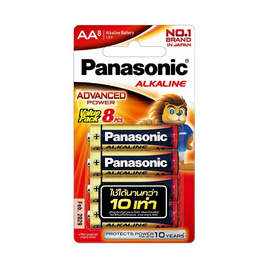Battery: (86, 149, 180, 176), (87, 124, 179, 150)
